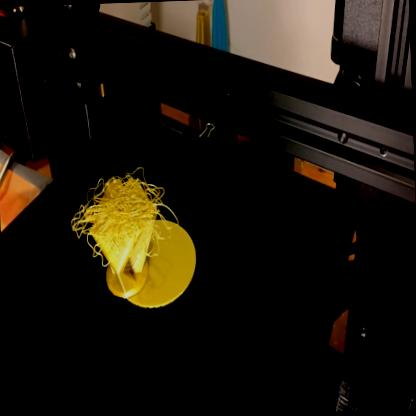fail: (67, 163, 183, 272)
